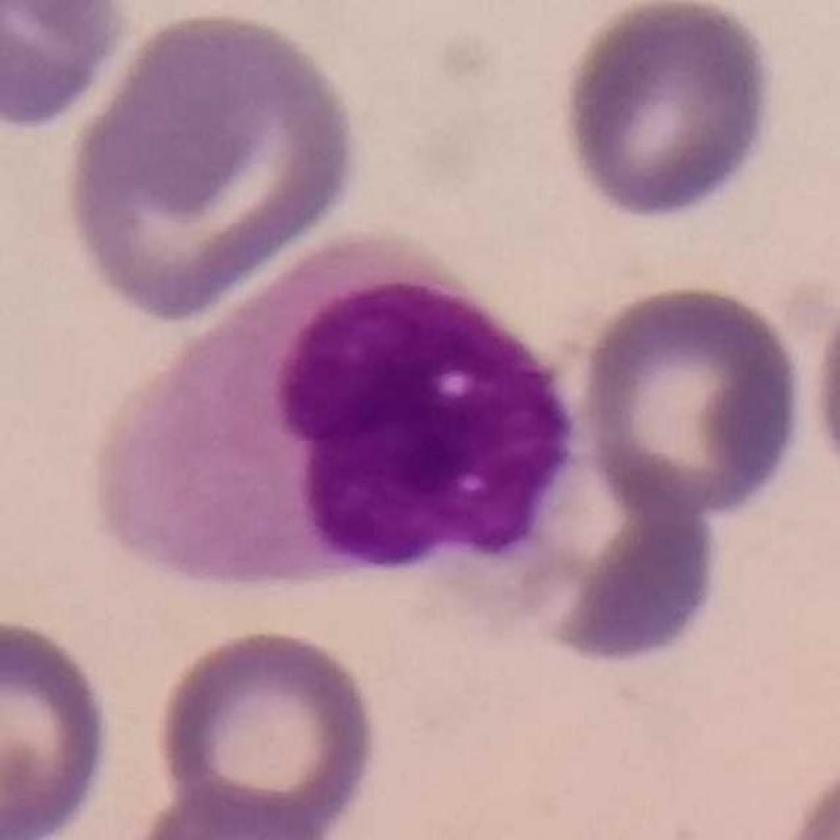monocyte: (96, 216, 598, 613)
